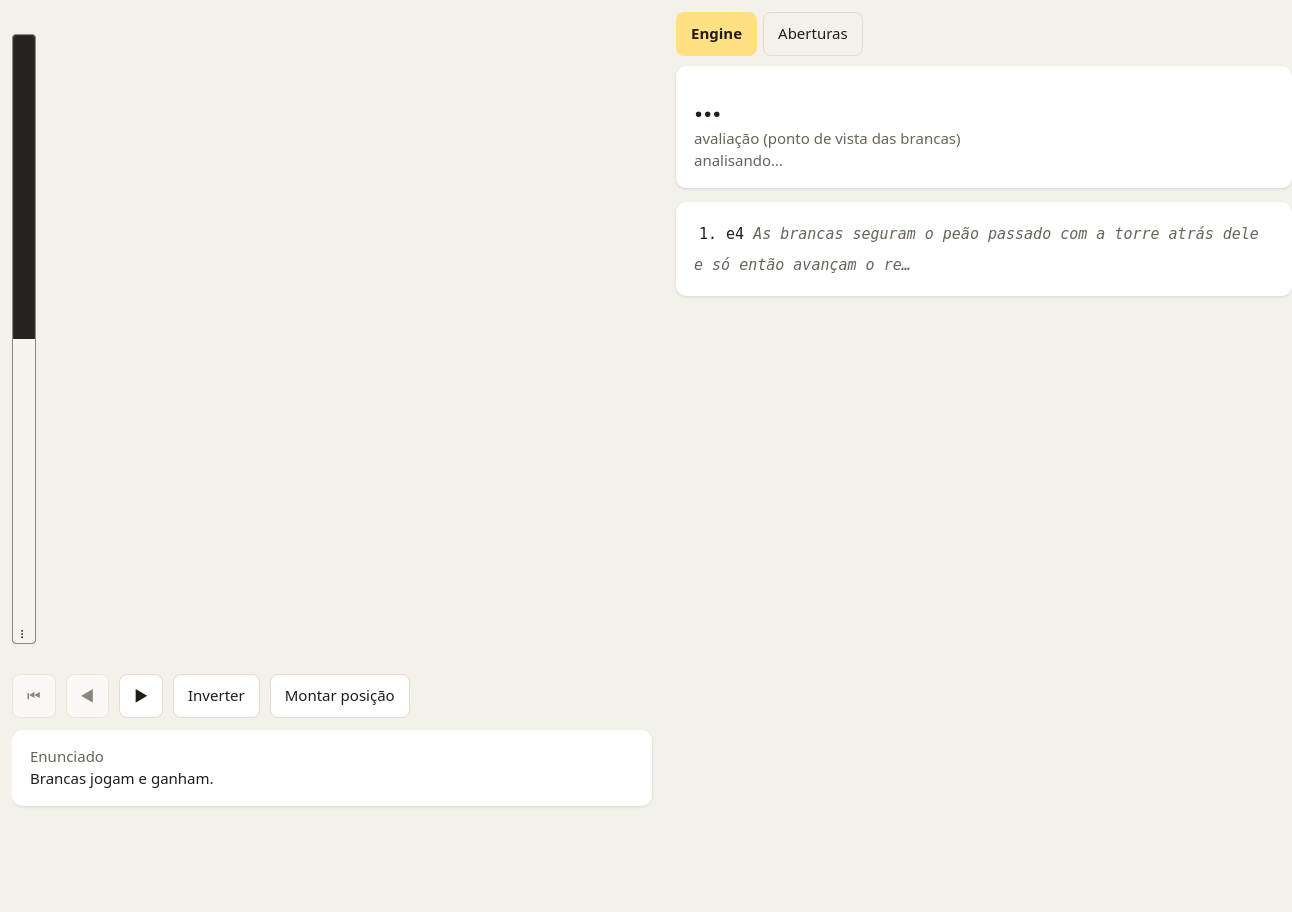
Test: no modo leitura o enunciado e o comentário do lance aparecem inteiros
Expected: the text "Brancas jogam e ganham." is shown, [30, 768, 214, 788]
Click the button "1. e4".
click(722, 234)  # box [694, 218, 749, 250]
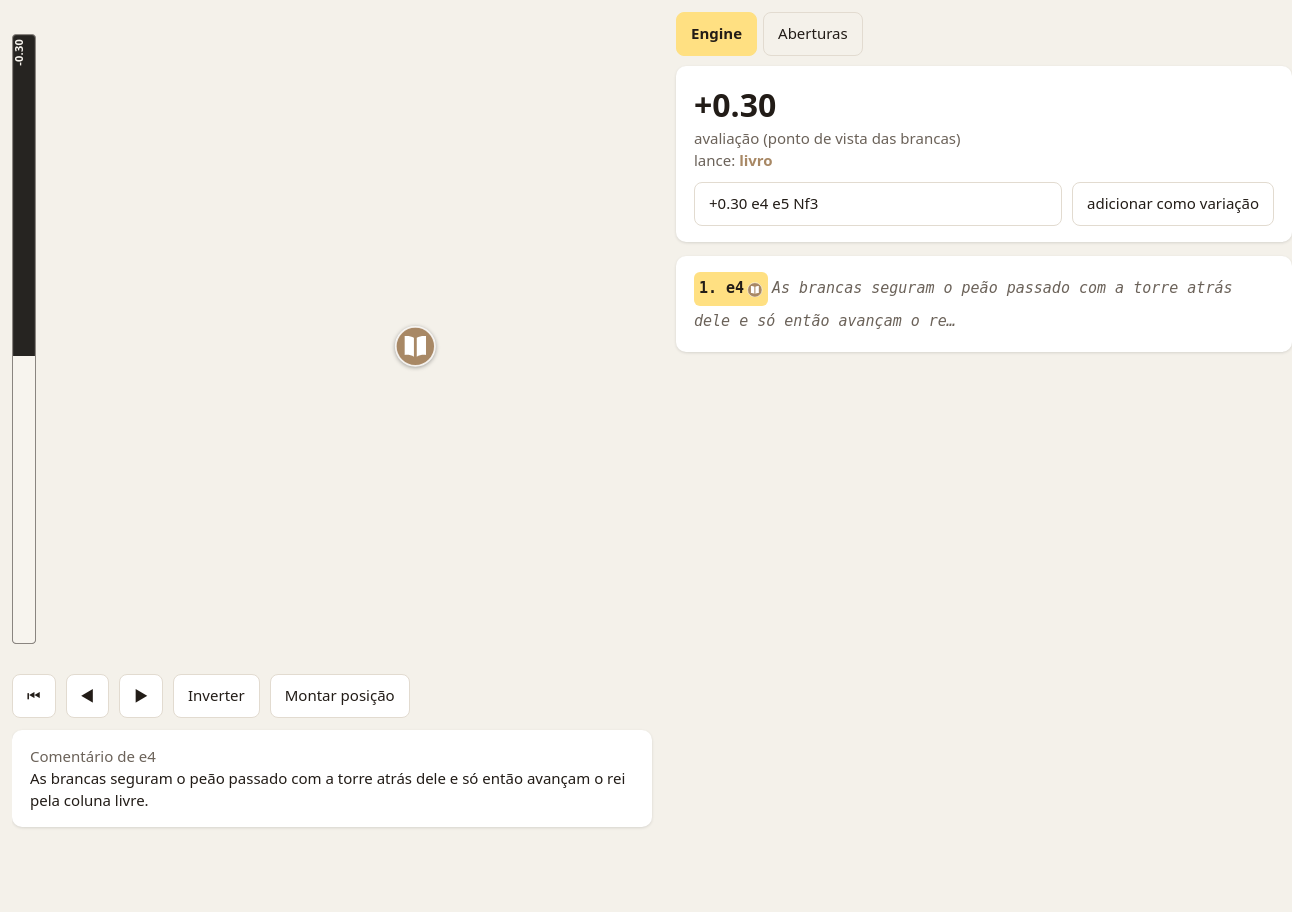
Expected: the text "As brancas seguram o peão passado com a torre atrás dele e só então avançam o rei pela coluna livre." is shown, [30, 768, 629, 810]
Expected: the text "Comentário de e4" is shown, [30, 746, 156, 766]
Expected: the text "Brancas jogam e ganham." is gone
